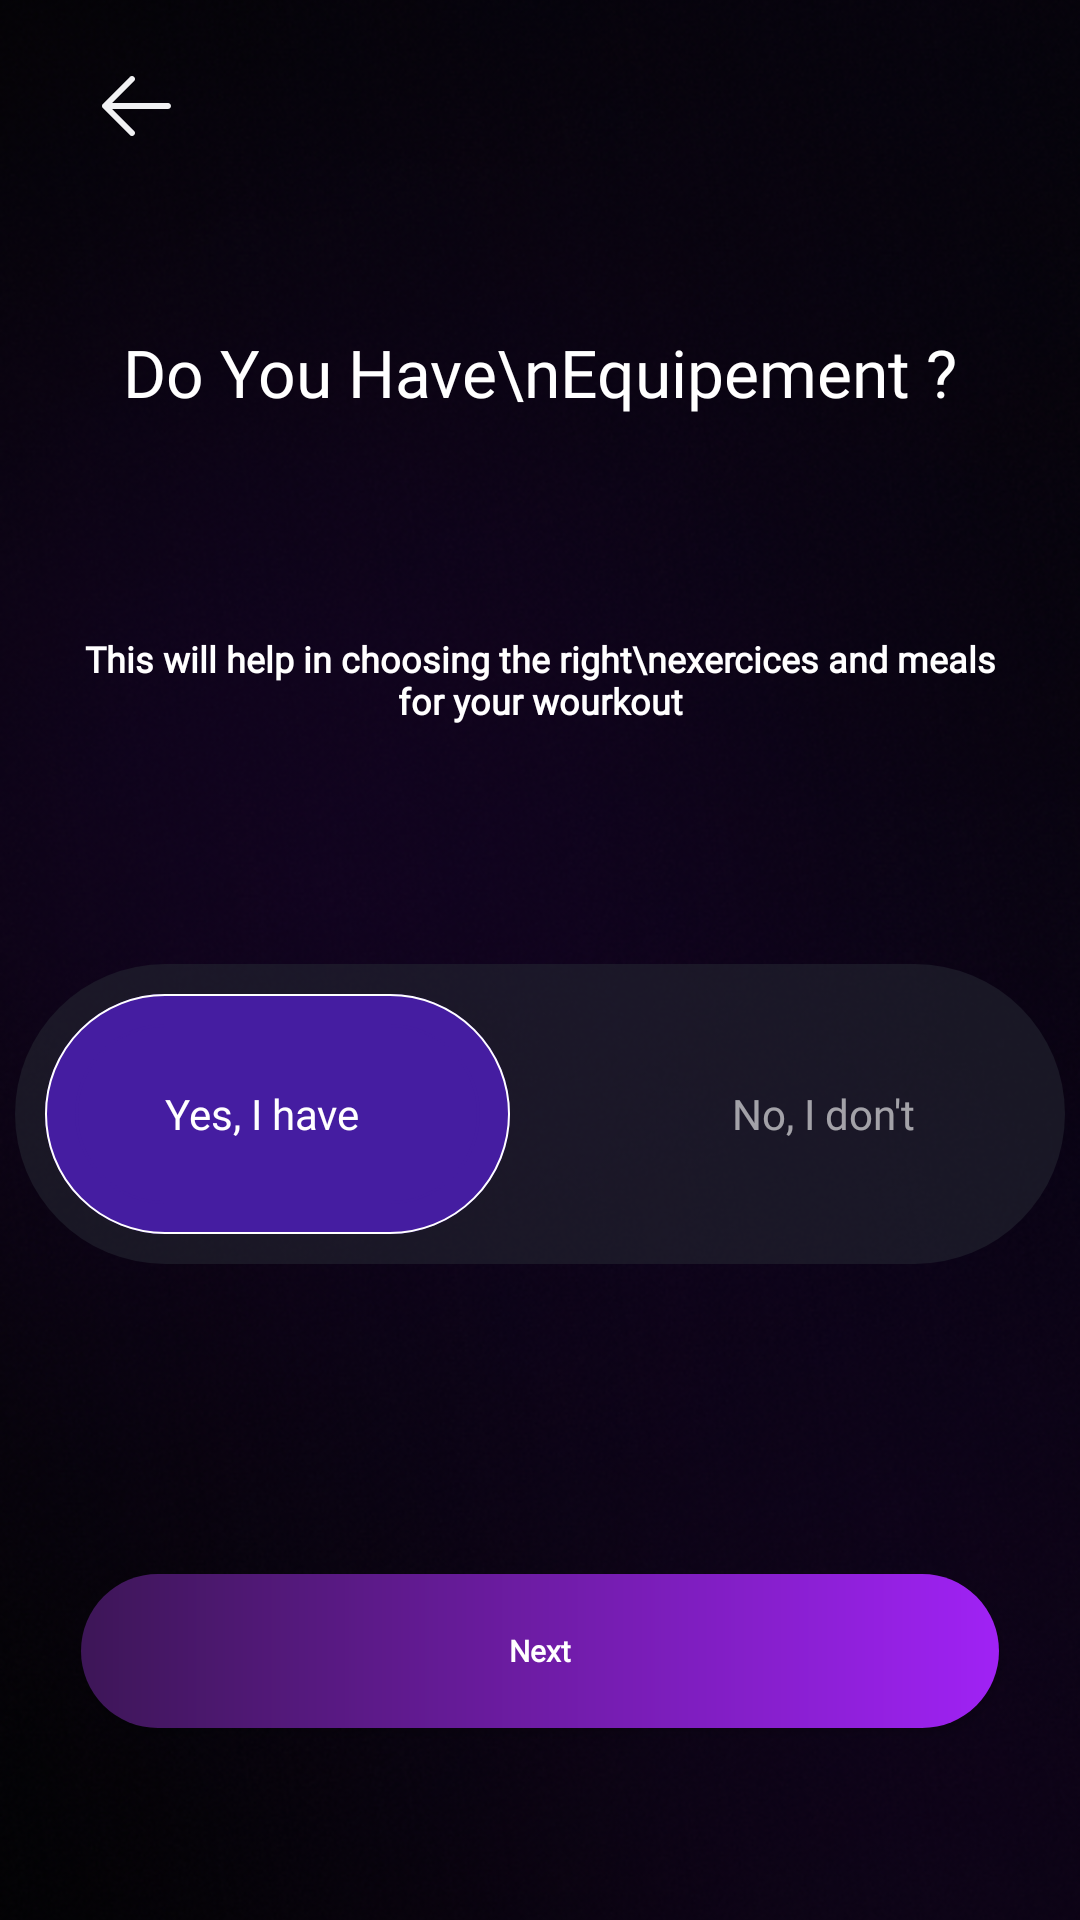

Named icons in this screenshot (1080×1920) and their bounding boxes, (x1, y1, x2, y2):
back: (102, 76, 171, 136)
